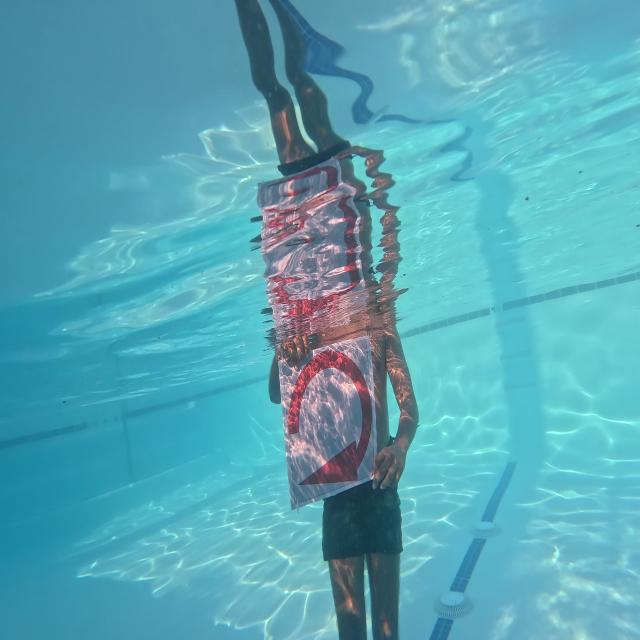red_side: (277, 342, 383, 496)
